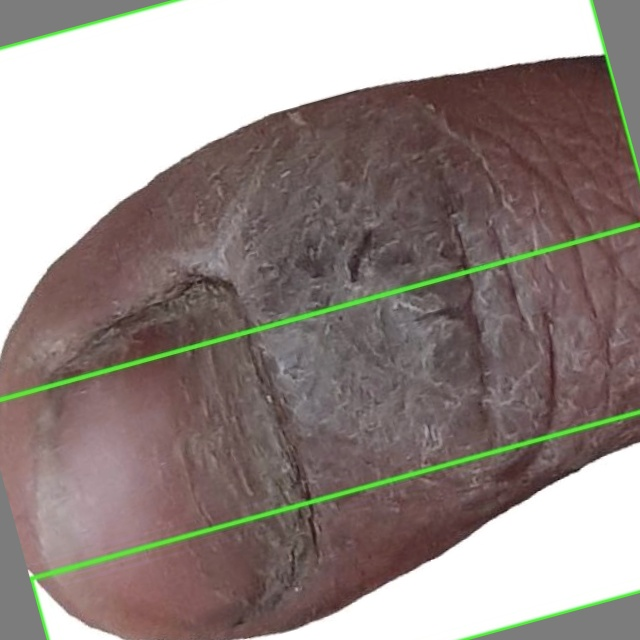Contact Dermatitis: (0, 0, 639, 401), (30, 412, 639, 639)
